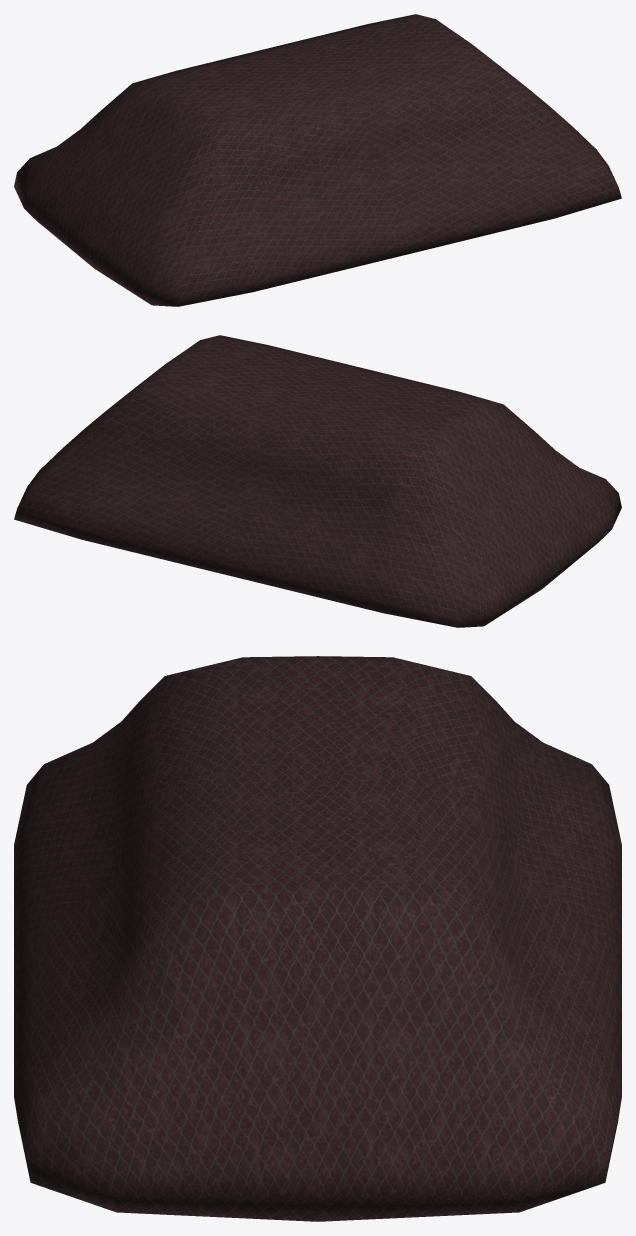
The model's file is mostnogoramusora.fbx.
3 views of the same model, one above another, from view 1: azimuth 30°, elevation 25°; view 2: azimuth 150°, elevation 25°; view 3: azimuth 270°, elevation 25° (orthographic). The views are drawn at different scales.
Visible parts, largest first — view 1: Cube.036; view 2: Cube.036; view 3: Cube.036.
Boxes of the visible parts, x1,y1,x2,y2 form: Cube.036: [14, 14, 621, 306]; Cube.036: [14, 335, 621, 627]; Cube.036: [14, 656, 621, 1221].
Size of the model in its own units: 4116 by 1222 by 2587.
